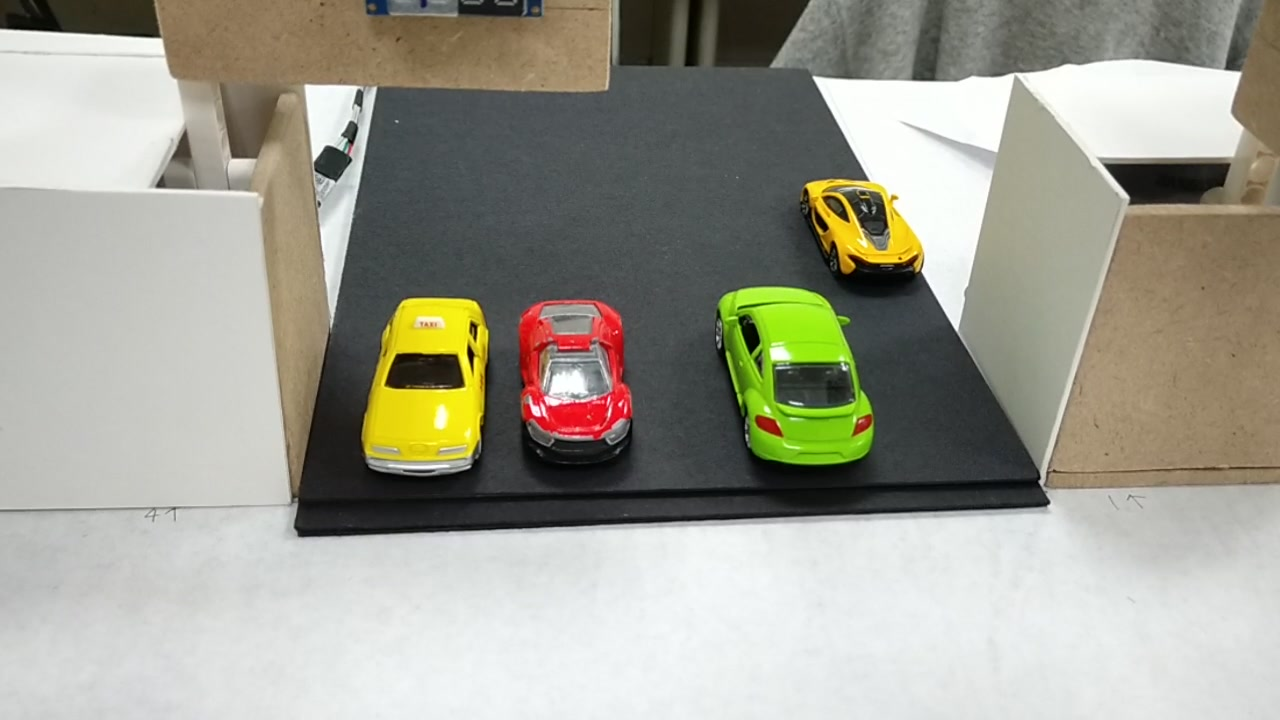car: (716, 280, 877, 476), (359, 298, 488, 481), (520, 297, 638, 471), (799, 174, 922, 282)
